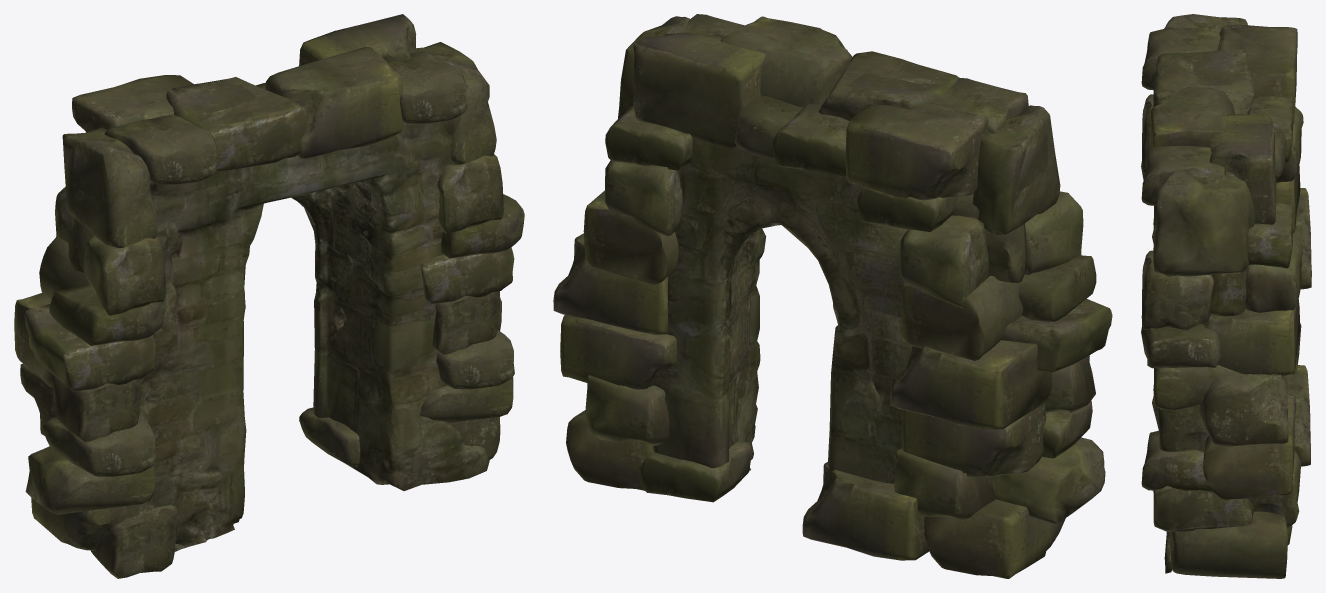
Rendered from Ruins_BrokenDoorway-transformed.glb.
3 views of the same model, side by side, from view 1: azimuth 30°, elevation 25°; view 2: azimuth 150°, elevation 25°; view 3: azimuth 270°, elevation 25° (orthographic). The views are drawn at different scales.
Parts seen in each view (by area): view 1: Ruins_BrokenDoorway; view 2: Ruins_BrokenDoorway; view 3: Ruins_BrokenDoorway.
Part boxes in pixels (bbox=[...]): Ruins_BrokenDoorway: bbox=[14, 14, 524, 578]; Ruins_BrokenDoorway: bbox=[553, 14, 1112, 578]; Ruins_BrokenDoorway: bbox=[1141, 14, 1311, 578].
Bounding box in the file's own units: 4.88 × 4.43 × 1.62.
2 materials, 2 textured.
